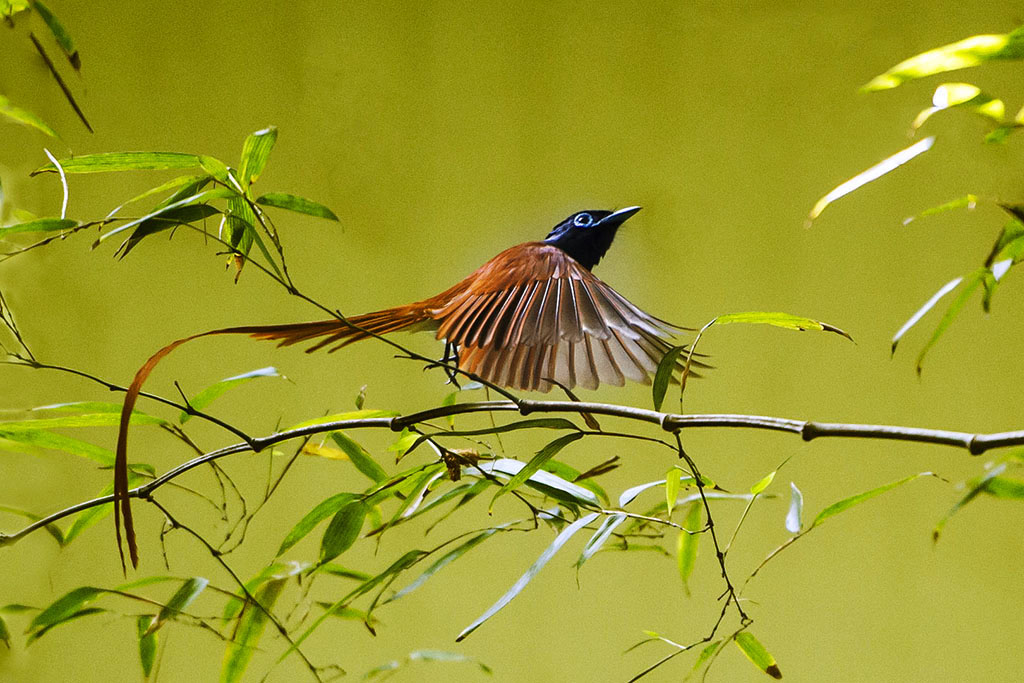bird: (85, 197, 708, 455)
